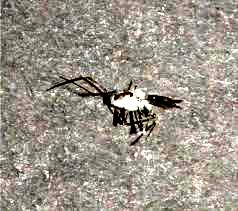Helopeltis-insect: (95, 84, 162, 122)
